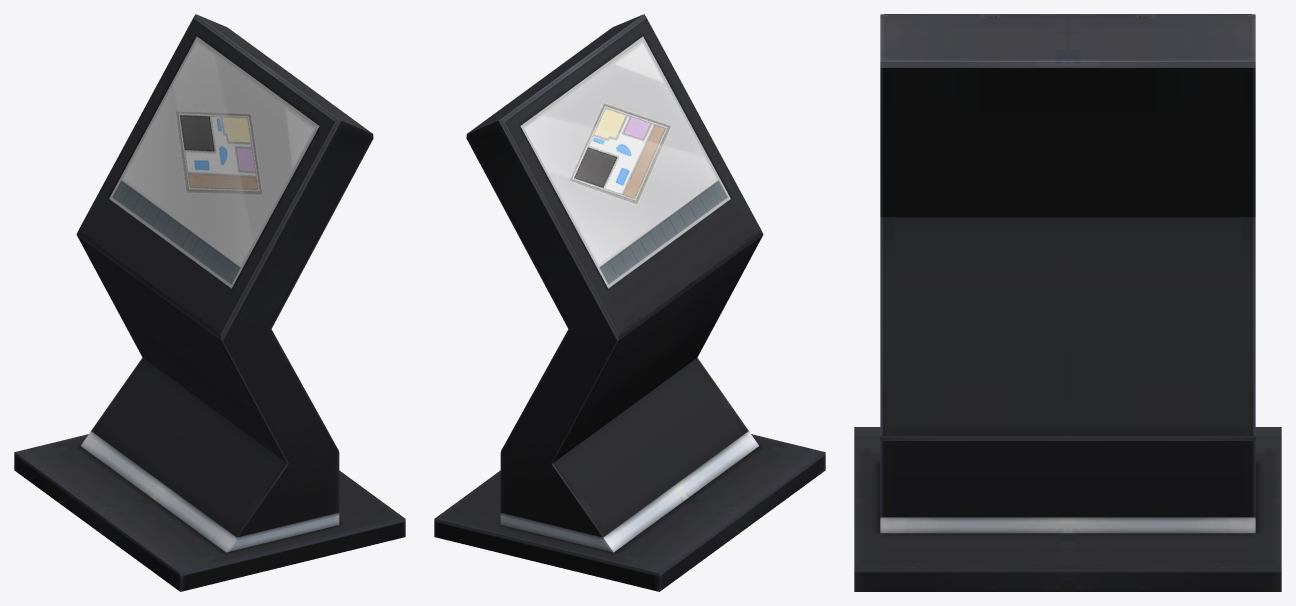
File: my_shoppingmall_01_kiosk_01.glb
The picture shows the model from 3 angles, left to right: view 1: azimuth 30°, elevation 25°; view 2: azimuth 150°, elevation 25°; view 3: azimuth 270°, elevation 25°; orthographic projection. The views are drawn at different scales.
Visible parts, largest first — view 1: my_shoppingmall_01_kiosk_01; view 2: my_shoppingmall_01_kiosk_01; view 3: my_shoppingmall_01_kiosk_01.
Part boxes in pixels (<box>): my_shoppingmall_01_kiosk_01: <box>14,14,405,591</box>; my_shoppingmall_01_kiosk_01: <box>434,14,825,591</box>; my_shoppingmall_01_kiosk_01: <box>854,14,1281,591</box>.
Size of the model in its own units: 0.00406 by 0.00728 by 0.00519.
2 materials, 2 textured.
